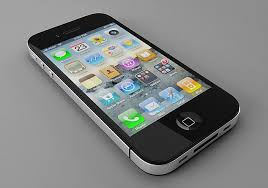iphone: (27, 13, 244, 177)
iphone4: (26, 13, 243, 177)
